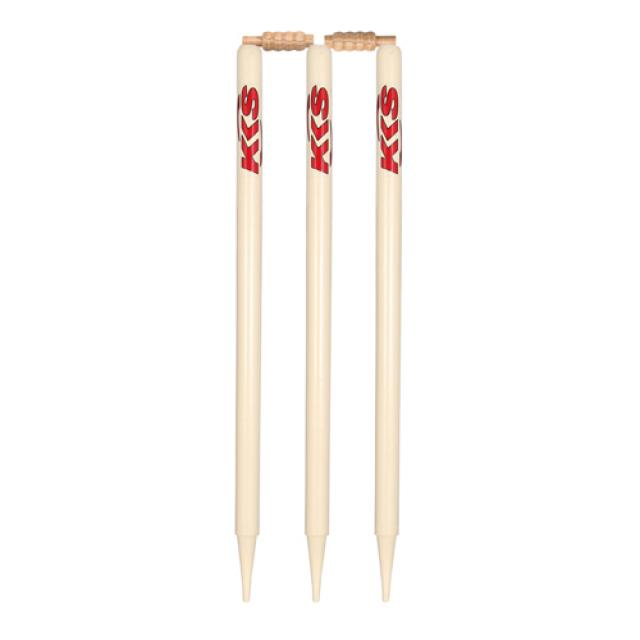stump: (234, 31, 400, 601)
